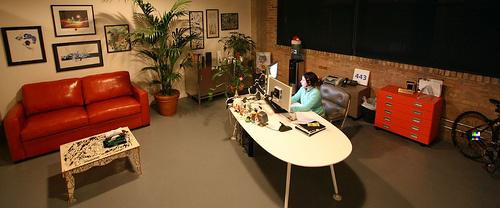car: (453, 96, 500, 177)
chair: (319, 83, 351, 131)
person: (291, 74, 326, 119)
pottedplant: (128, 1, 201, 117), (212, 32, 256, 102), (223, 31, 256, 64)
sofa: (5, 72, 150, 163)
tvmonitor: (267, 76, 291, 114), (268, 63, 279, 81)
